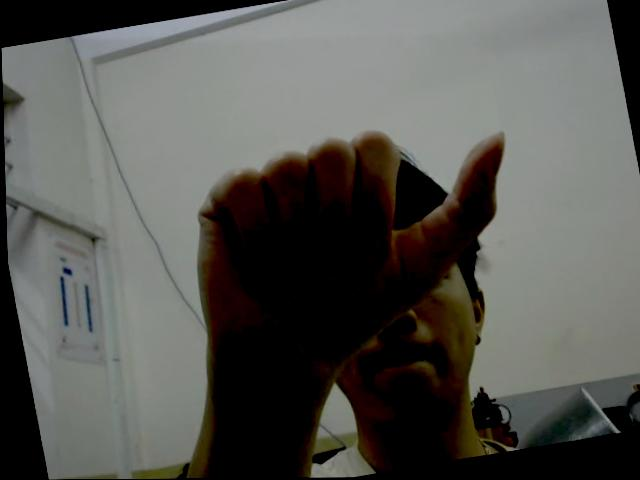A: (170, 106, 538, 374)
